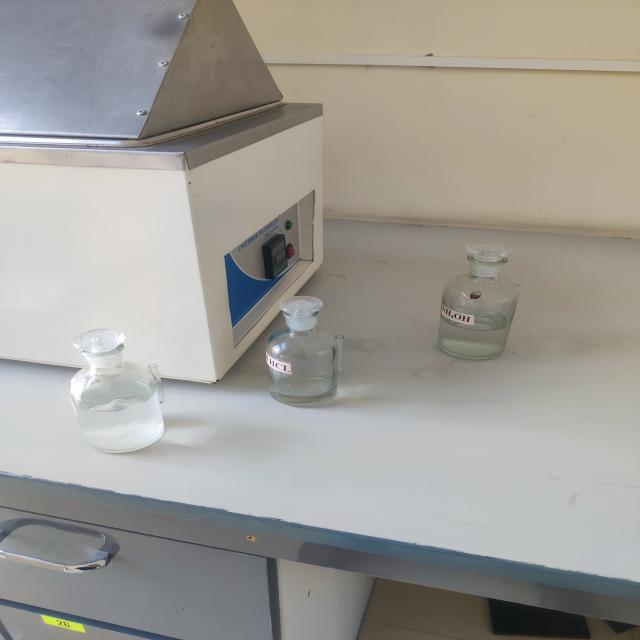Reagent_Bottle: (34, 293, 194, 467), (233, 272, 374, 436), (421, 216, 543, 380)
